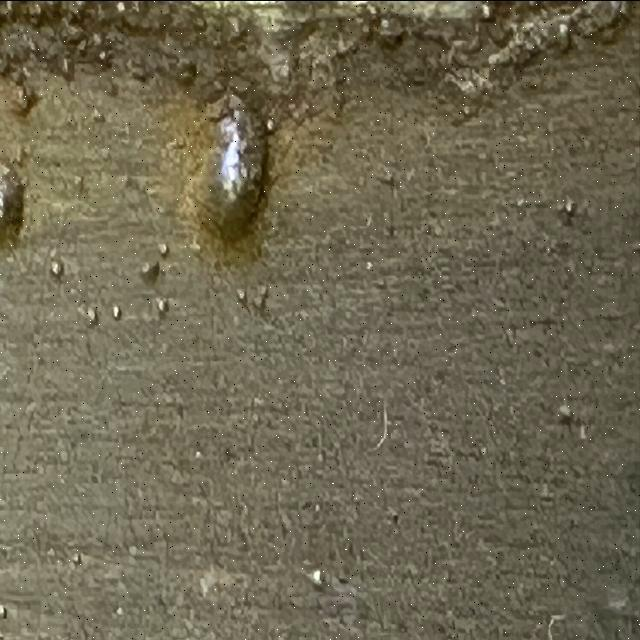Excess Reinforcement: (0, 2, 630, 102)
Spatters: (189, 95, 268, 242), (0, 162, 24, 247), (8, 78, 36, 117), (79, 303, 99, 327), (140, 260, 159, 285), (252, 283, 268, 308), (155, 295, 169, 318), (308, 567, 324, 585), (482, 0, 496, 18), (51, 258, 64, 276), (559, 400, 571, 418), (565, 195, 575, 213), (236, 287, 246, 304), (112, 305, 121, 320), (159, 242, 169, 255), (0, 603, 8, 618), (99, 50, 108, 60), (562, 418, 569, 423)
